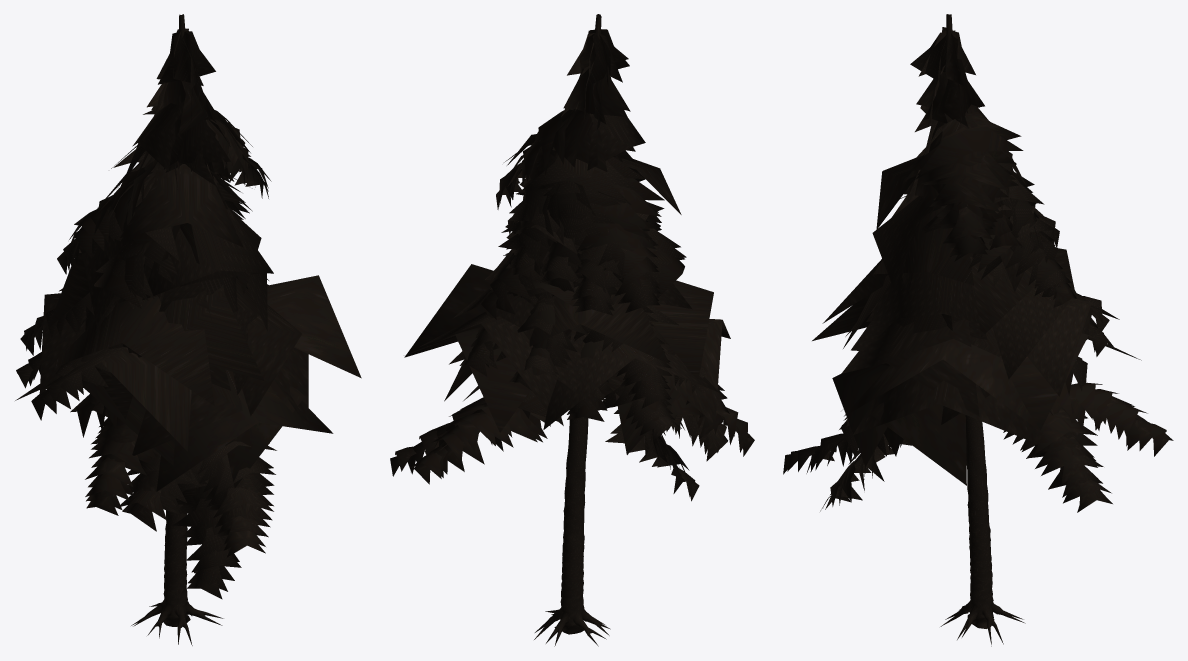
Rendered from spmTree_LOD0 (merge).fbx.
The picture shows the model from 3 angles, left to right: view 1: azimuth 30°, elevation 25°; view 2: azimuth 150°, elevation 25°; view 3: azimuth 270°, elevation 25°; orthographic projection. The views are drawn at different scales.
Visible parts, largest first — view 1: spmTree_LOD0; view 2: spmTree_LOD0; view 3: spmTree_LOD0.
Boxes of the visible parts, x1,y1,x2,y2 form: spmTree_LOD0: [15, 14, 361, 645]; spmTree_LOD0: [390, 14, 754, 646]; spmTree_LOD0: [783, 14, 1173, 646].
Size of the model in its own units: 55.1 by 112 by 64.52.
1 material, 1 textured.
